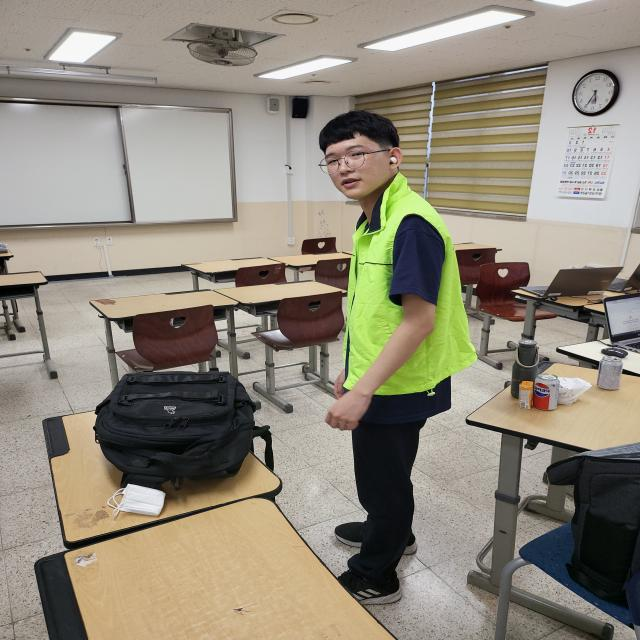weston_spy: (307, 158, 486, 410)
